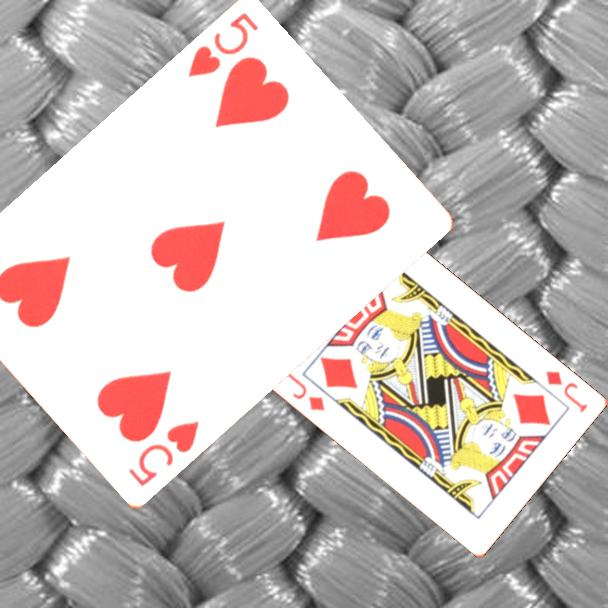d11: (541, 367, 590, 416), (279, 365, 327, 414)
h05: (125, 418, 203, 491), (184, 9, 261, 81)
